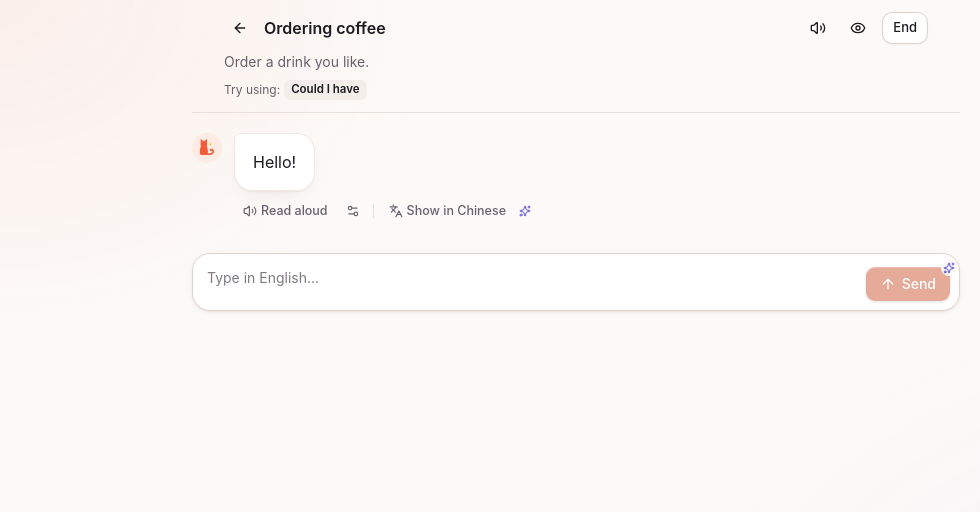
Scenario: SpeakingSessionPage › sends a typed turn and reads the reply aloud
Type "A latte, please." into the text box labelled "Type in English…" at (529, 282), box left=201, top=262, right=857, bottom=302
Then press Enter
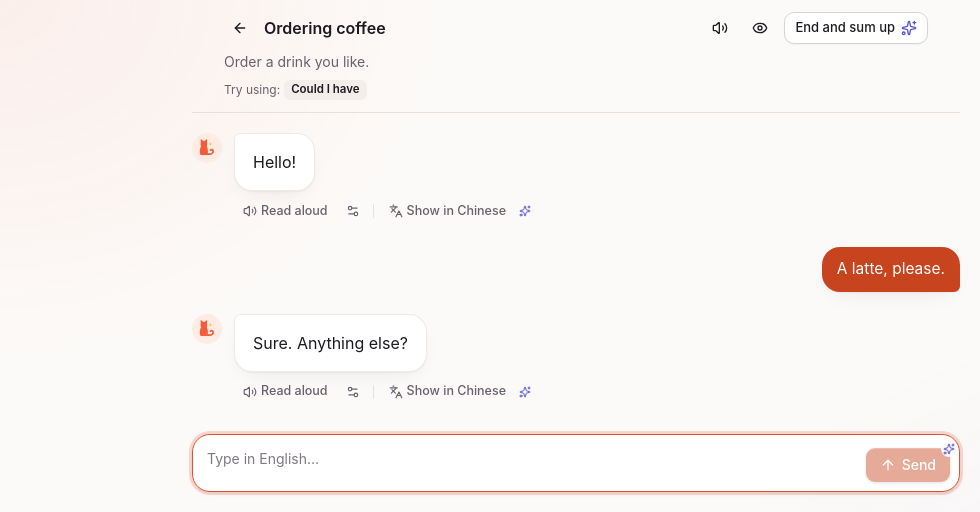
Check: the button with test id "speaking-end" reads "End and sum up", box left=784, top=12, right=928, bottom=44
